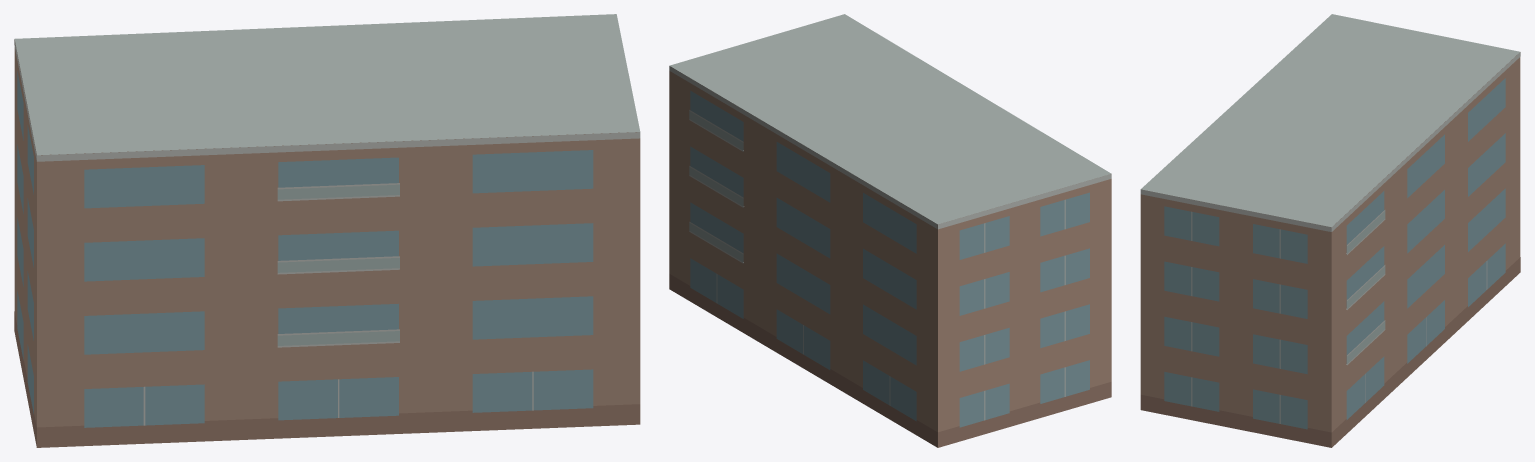
Rendered from survey-upis-32630112.glb.
3 views of the same model, side by side, from view 1: azimuth 30°, elevation 25°; view 2: azimuth 150°, elevation 25°; view 3: azimuth 270°, elevation 25° (orthographic). The views are drawn at different scales.
Parts seen in each view (by area): view 1: survey-upis-32630112.tmp; view 2: survey-upis-32630112.tmp; view 3: survey-upis-32630112.tmp.
Boxes of the visible parts, box(x1,y1,x2,y2) form: survey-upis-32630112.tmp: box(14, 14, 640, 447); survey-upis-32630112.tmp: box(669, 14, 1111, 447); survey-upis-32630112.tmp: box(1140, 14, 1520, 447).
Size of the model in its own units: 22.71 by 10.95 by 17.1.
